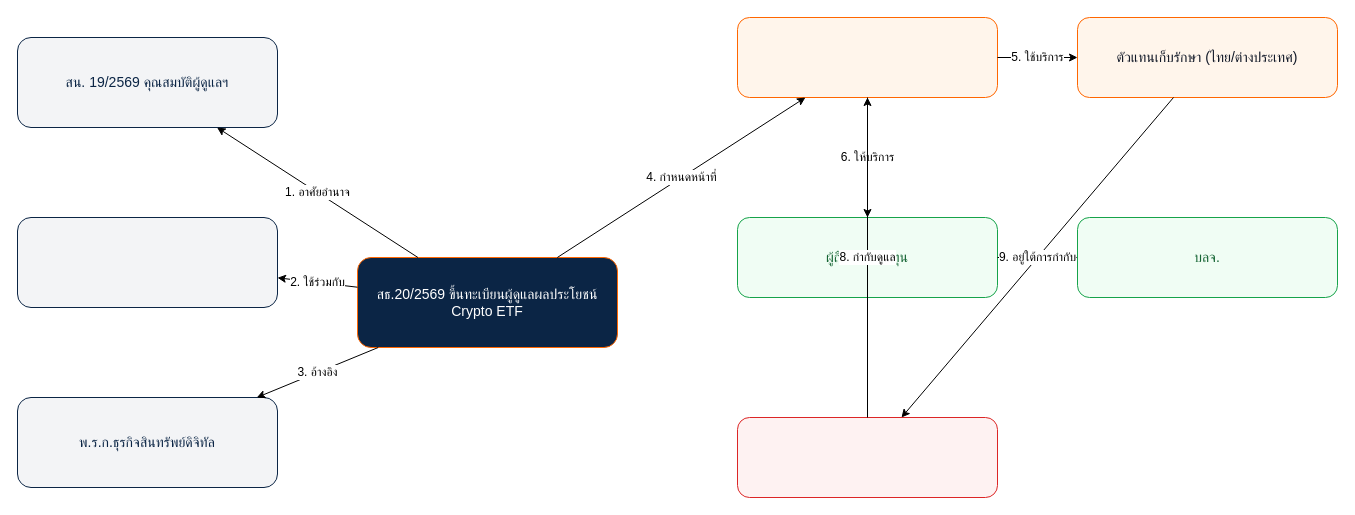
This 1355x515 diagram has some shape labels left out. Here are the shapes that lost their labels. From the top down, the box of each, then its label:
(736, 16, 998, 98): DA Custodian
(16, 216, 278, 308): สธ. 60/2558 ขึ้นทะเบียน
(736, 416, 998, 498): ก.ล.ต.
